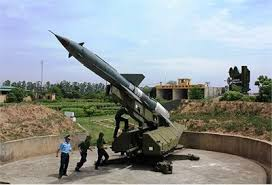ten_lua: (50, 30, 185, 126)
